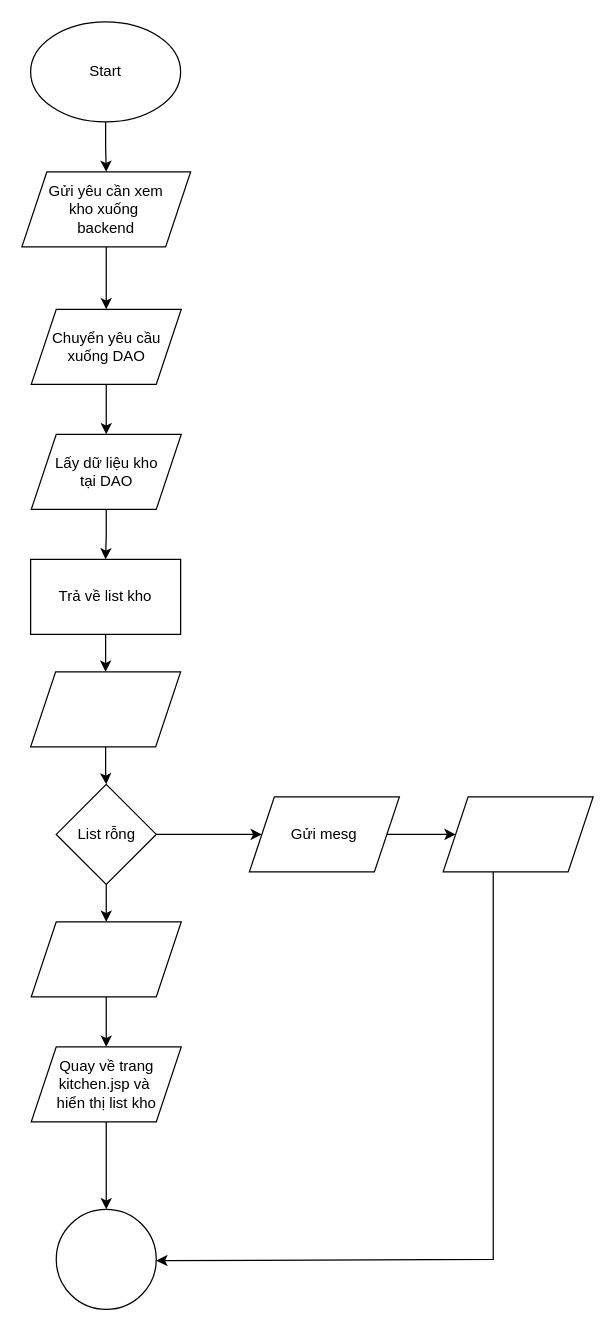
The diagram is 615 pixels wide and 1331 high, and some of its shapes have lost their labels. Each missing label, with the centre of its shape:
"End" belongs at point 105,1258.
"Nhận list tại ingredient Controller" belongs at point 105,709.
"Quay về trang kitchen và hiển thị mesg" belongs at point 517,834.
"Set list để trả về kitchen.jsp" belongs at point 105,959.
